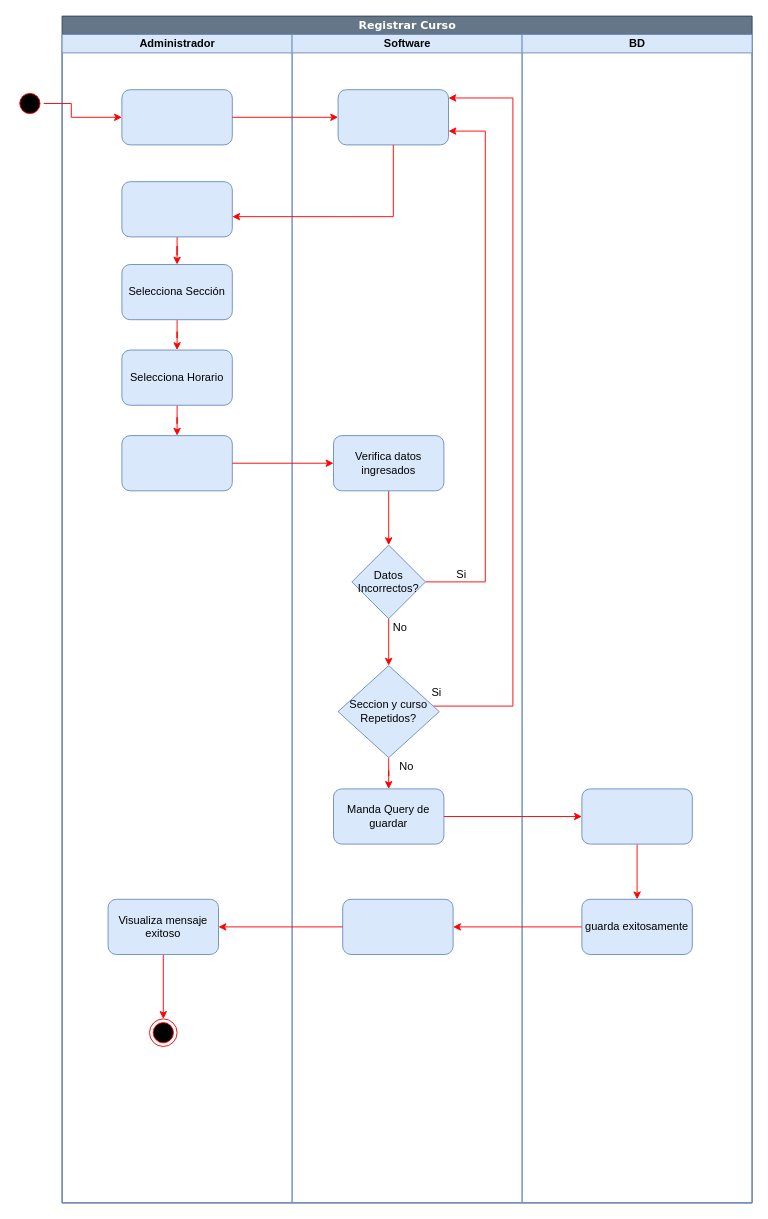
Image size: 768x1219. Some labels were removed from this diagram. The centre of each missing label's shape, as x and y in pixels:
"Envia mensaje exitoso" goes at (397,926).
"Ingresa Nombre" goes at (176,209).
"Ingreso al modulo de Crear curso" goes at (176,117).
"Presiona Guardar" goes at (176,463).
"Recibe Query" goes at (636,816).
"Solicita Campos a llenar" goes at (392,117).
